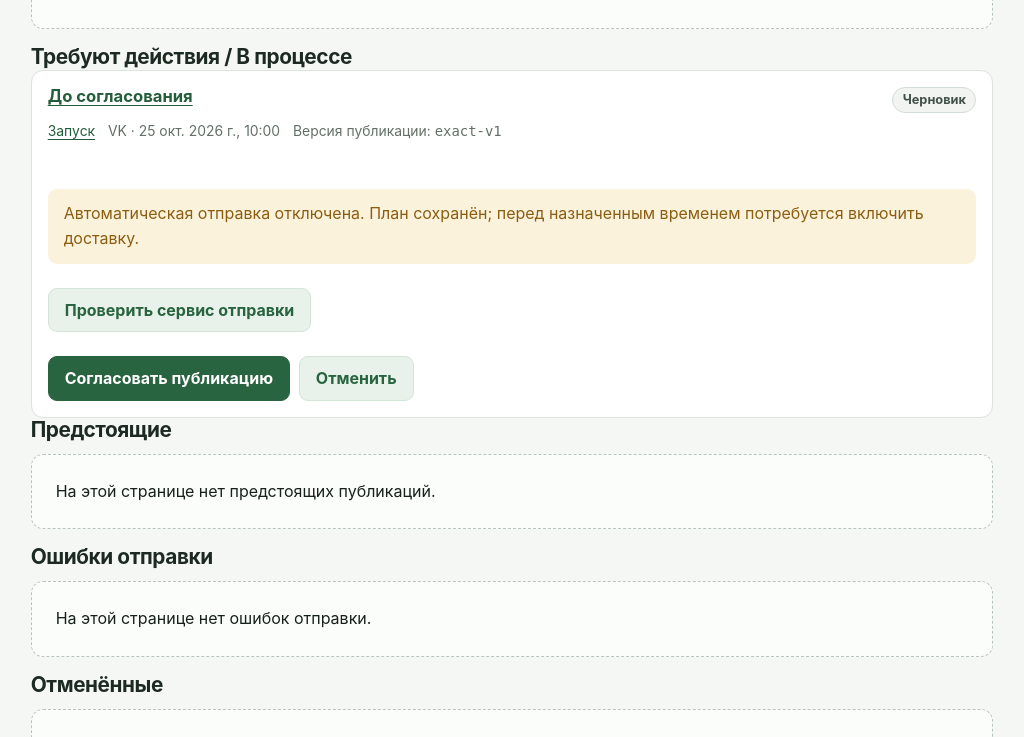
Test: publication operator commands › approves DRAFT and reloads the authoritative workspace rather than merging the command result
This screenshot has width=1024, height=737.
(page scrolled)
Click the button "Согласовать публикацию" at x=169, y=378, box [48,356,290,401]
(page scrolled)
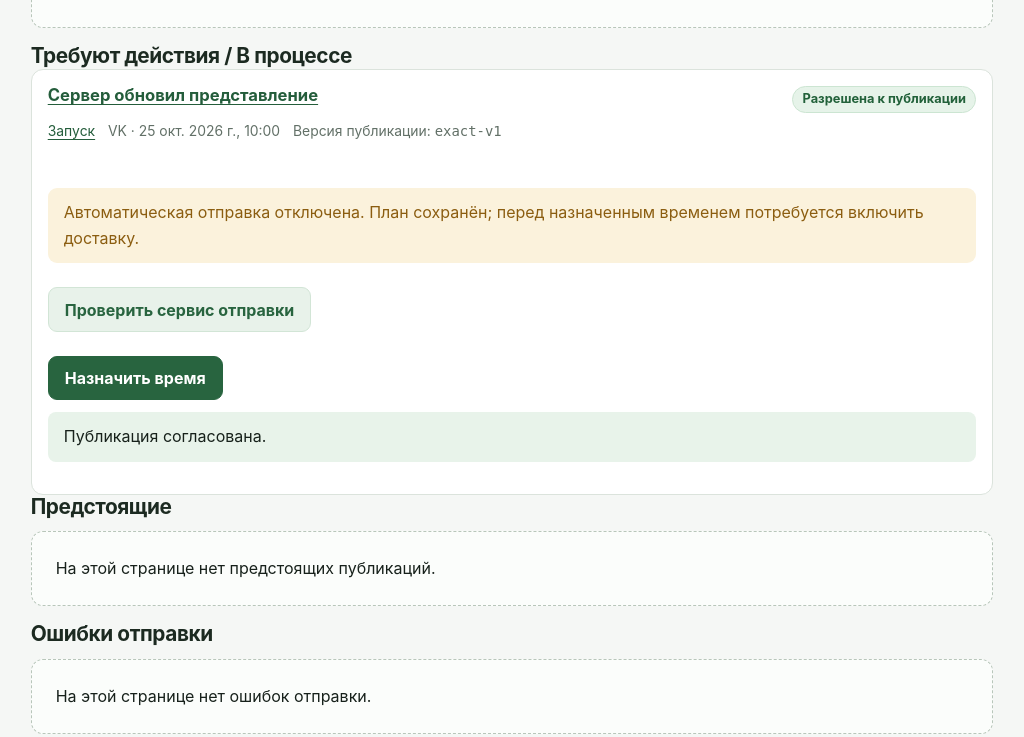
Expected: the link "Сервер обновил представление" is shown, [48,85,318,105]
Expected: the link "До согласования" is gone
Expected: the button "Назначить время" is shown, [48,356,223,400]
